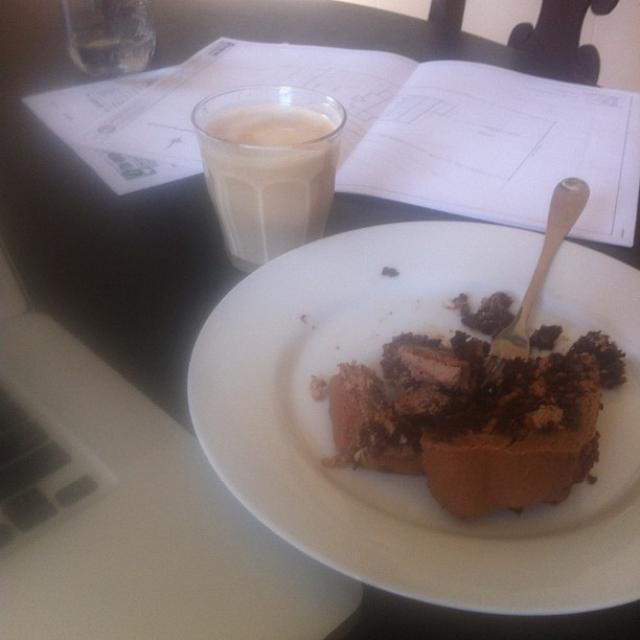chair: (426, 0, 638, 92)
